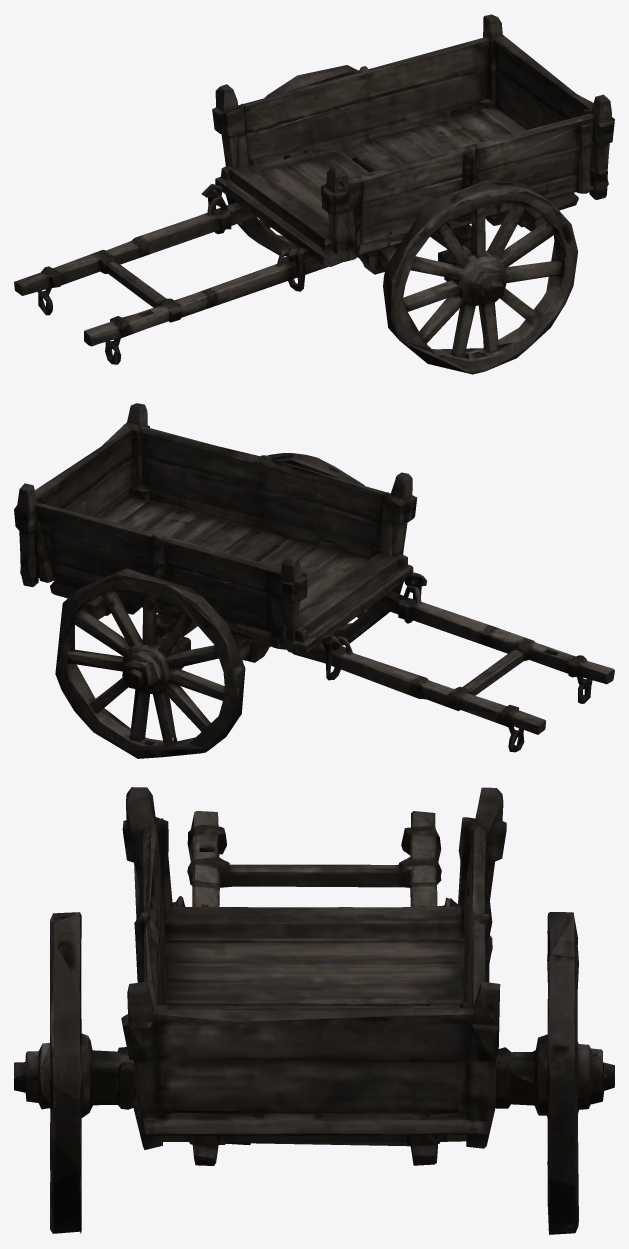
Rendered from war_cart_gutted_01.glb.
3 renders of one model, top to bottom at view 1: azimuth 30°, elevation 25°; view 2: azimuth 150°, elevation 25°; view 3: azimuth 270°, elevation 25°, orthographic. The views are drawn at different scales.
Parts seen in each view (by area): view 1: geometry_0; view 2: geometry_0; view 3: geometry_0.
Part boxes in pixels (x1,y1,x2,y2): geometry_0: (14,14,614,374); geometry_0: (14,403,614,758); geometry_0: (14,787,614,1234).
Bounding box in the file's own units: 0.9974 × 0.4138 × 0.6513.
1 material, 1 textured.
